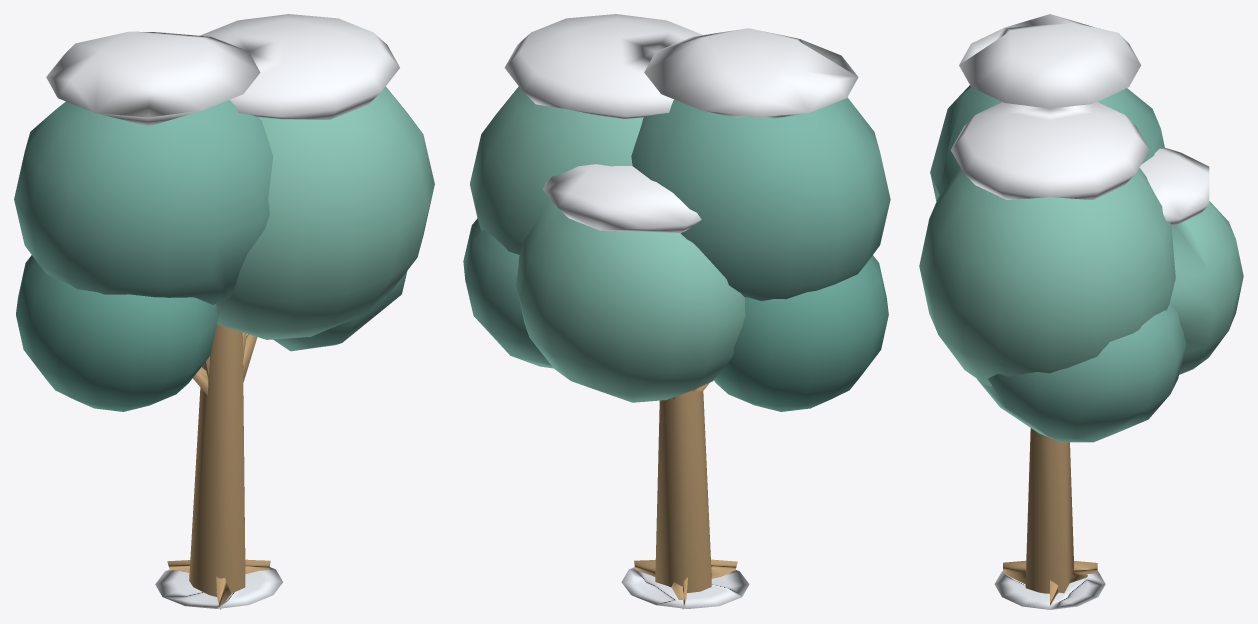
File: tree_v2_winter_low.glb
3 renders of one model, left to right at view 1: azimuth 30°, elevation 25°; view 2: azimuth 150°, elevation 25°; view 3: azimuth 270°, elevation 25°, orthographic. The views are drawn at different scales.
Bounding box in the file's own units: 3.84 × 5.26 × 2.97.
